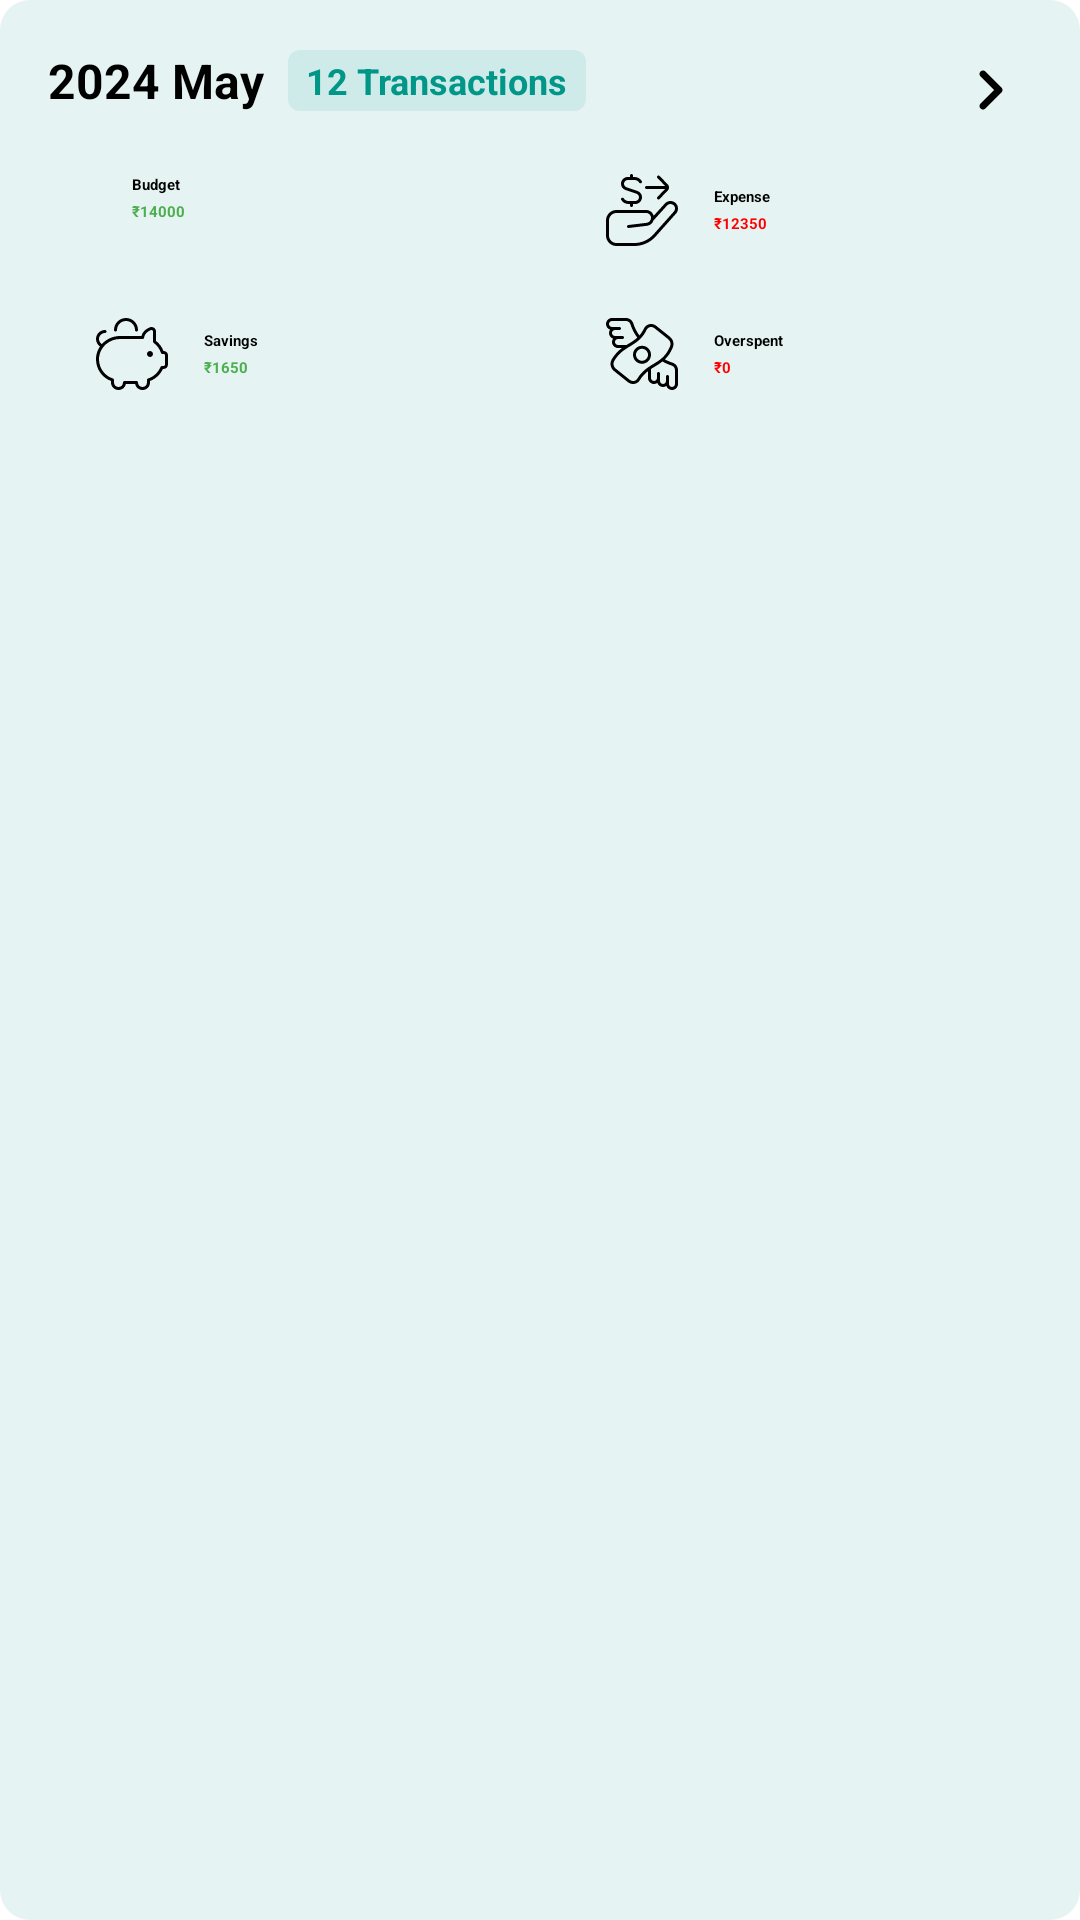

Icons on this 1080*1920 Android screen, each with its box as bbox(x1, y1, x2, y2):
chevron right: bbox(979, 70, 1003, 110)
